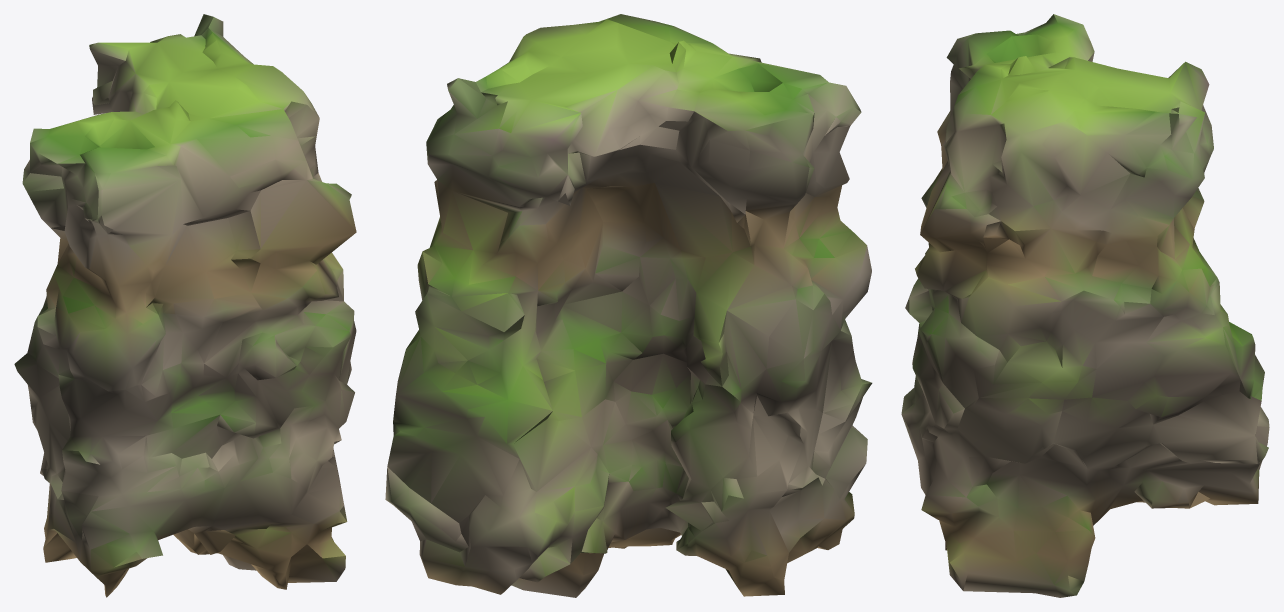
File: glade_cliff_corner_lod1.glb
3 views of the same model, side by side, from view 1: azimuth 30°, elevation 25°; view 2: azimuth 150°, elevation 25°; view 3: azimuth 270°, elevation 25° (orthographic). The views are drawn at different scales.
Parts seen in each view (by area): view 1: glade_cliff_corner.001; view 2: glade_cliff_corner.001; view 3: glade_cliff_corner.001.
Boxes of the visible parts, bbox=[...] form: glade_cliff_corner.001: bbox=[14, 14, 356, 597]; glade_cliff_corner.001: bbox=[385, 14, 872, 597]; glade_cliff_corner.001: bbox=[901, 14, 1269, 597].
Size of the model in its own units: 10.74 by 16.84 by 11.62.
